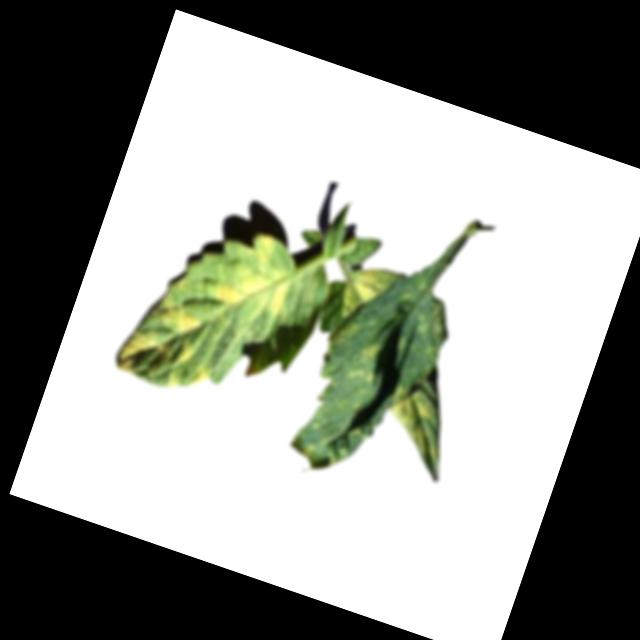Leaf_Mold: (208, 223, 308, 323), (382, 387, 441, 452), (114, 321, 170, 385), (145, 292, 207, 340), (343, 259, 394, 314), (343, 338, 385, 390), (188, 365, 212, 393)
